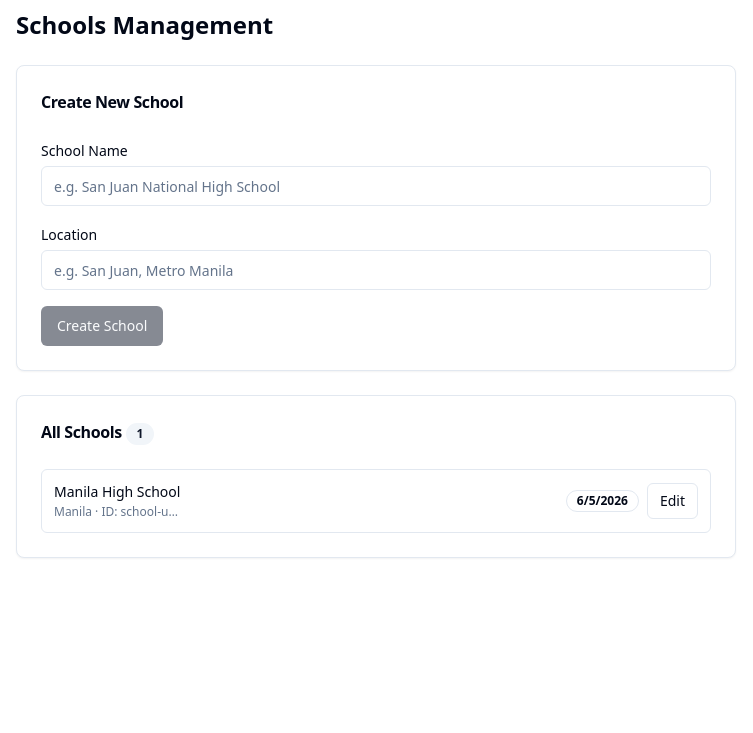
Test: SchoolsManagementPage › shows edit form when Edit button clicked
Expected: the text "Manila High School" is shown, [54,482,180,502]
Click the button "Edit". click: point(672, 501)
box: [647,483,698,519]
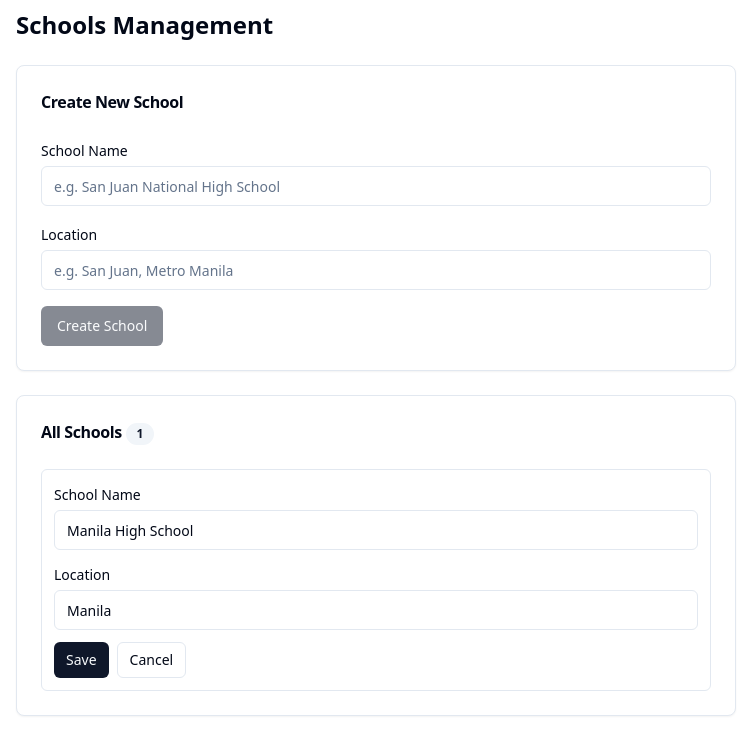
Result: the button "Save" is shown at [54,642,109,678]
Result: the button "Cancel" is shown at [117,642,186,678]
